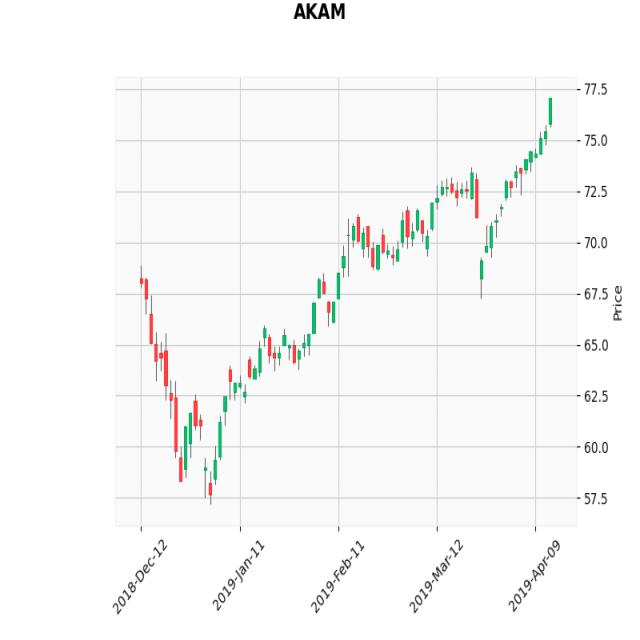Double-Bottom: (158, 341, 242, 503)
